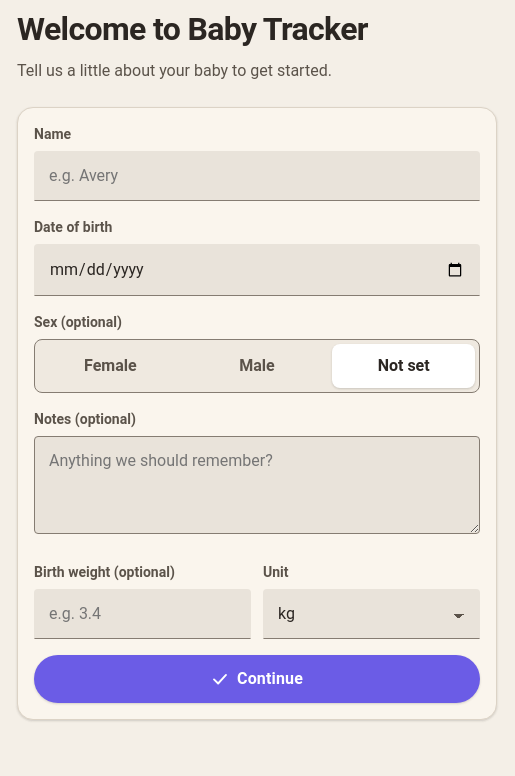
Test case: App onboarding gate › requires a name and date of birth before proceeding
Click the button "Continue": point(257, 679) [34,655,480,703]
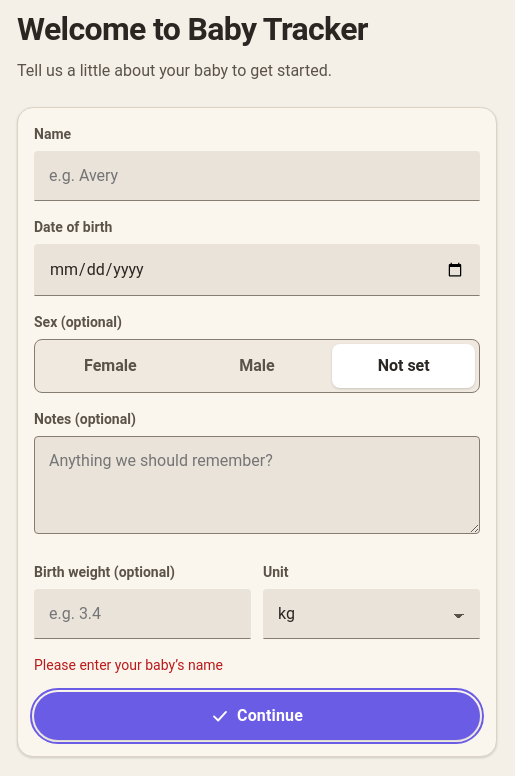
Expected: the message shows "name", [34,657,223,673]
